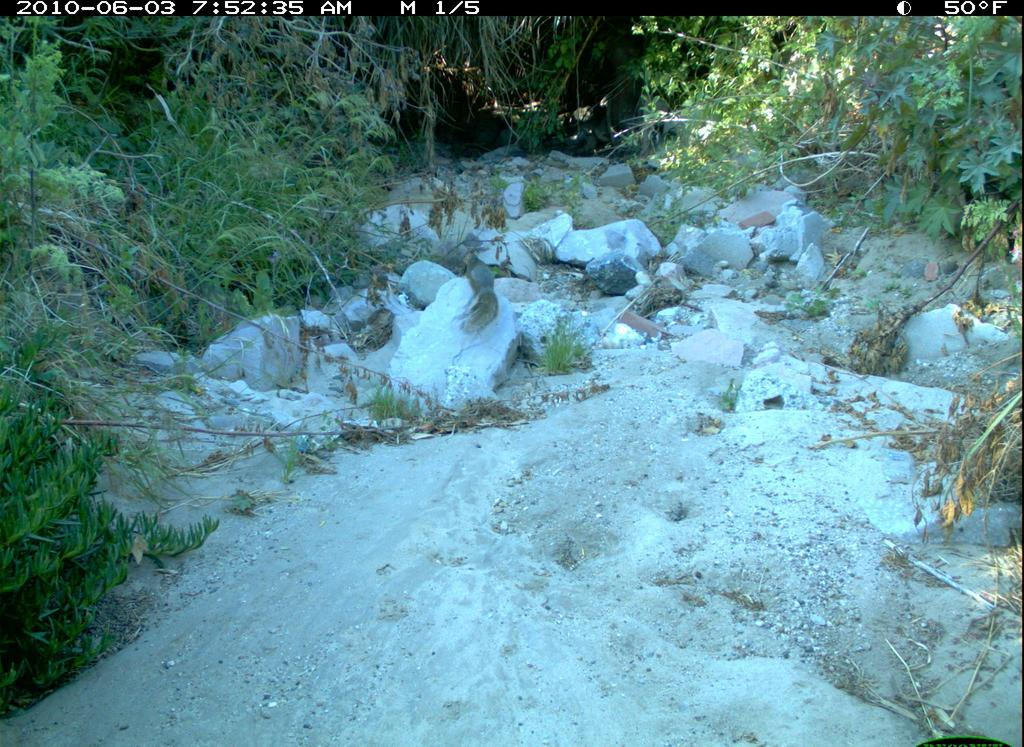squirrel: (457, 242, 514, 337)
